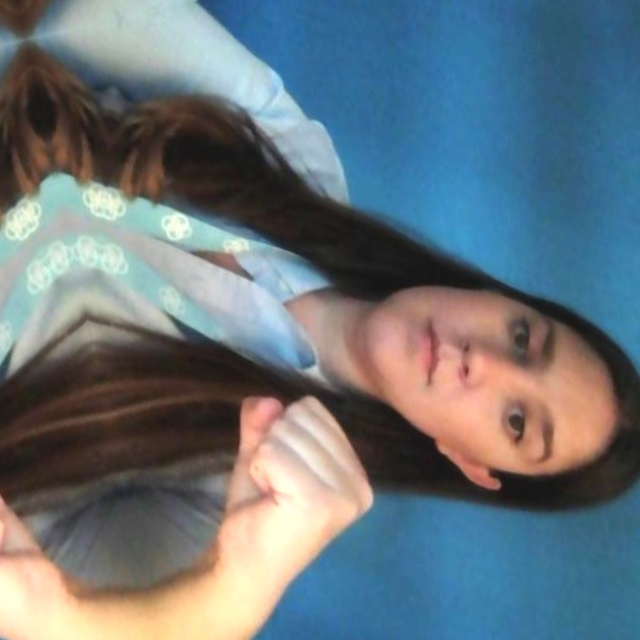Rock: (0, 403, 85, 640)
